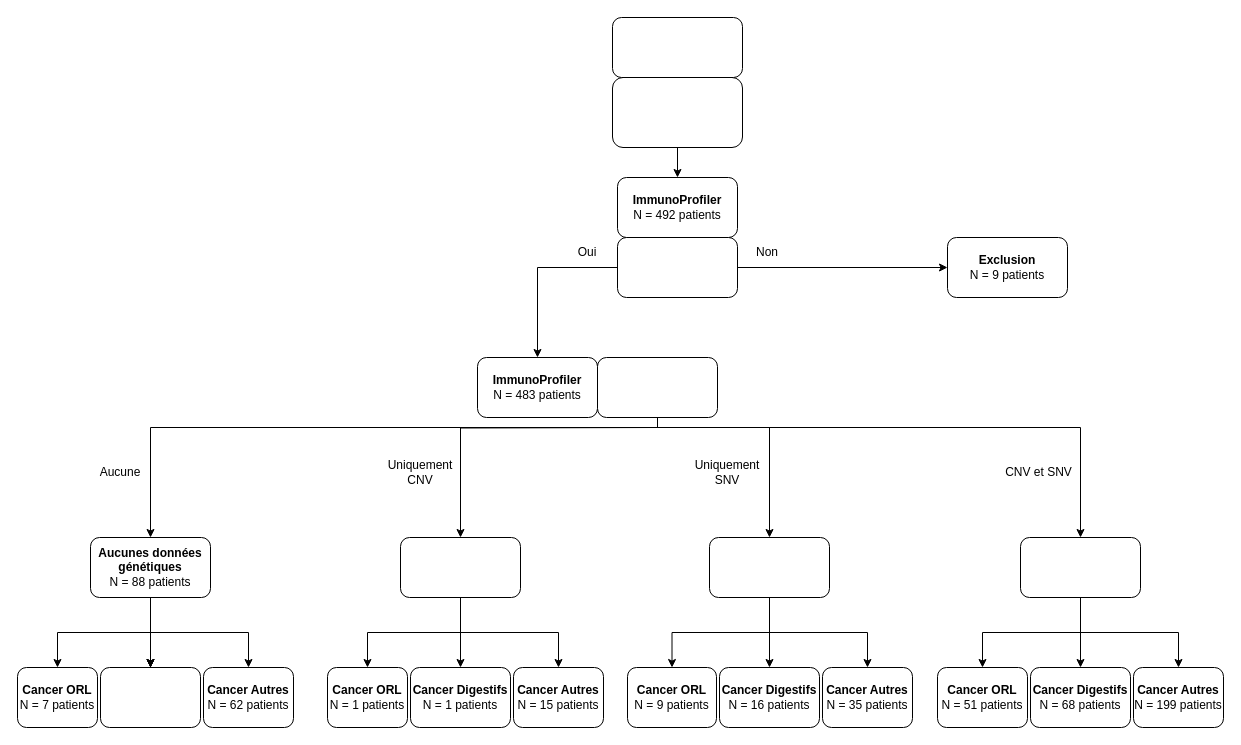
The diagram is 1241 pixels wide and 745 high, and some of its shapes have lost their labels. Here are the shapes that lost their labels. From the top down, the box of each, then its label:
(612, 16, 742, 78): Profiler N = ? patients
(612, 76, 742, 148): Patients CLB avec d onnées immunologiques disponibles ?
(616, 236, 738, 298): Localisation tumorale disponible ?
(596, 356, 718, 418): Données génétiques disponibles ?
(400, 536, 520, 598): Uniquement données CNV N = 17 patients
(708, 536, 830, 598): Uniquement données SNV N = 60 patients
(1020, 536, 1140, 598): Toutes données génétiques N = 318 patients
(100, 666, 200, 728): Cancer Digestifs N = 19 patients
